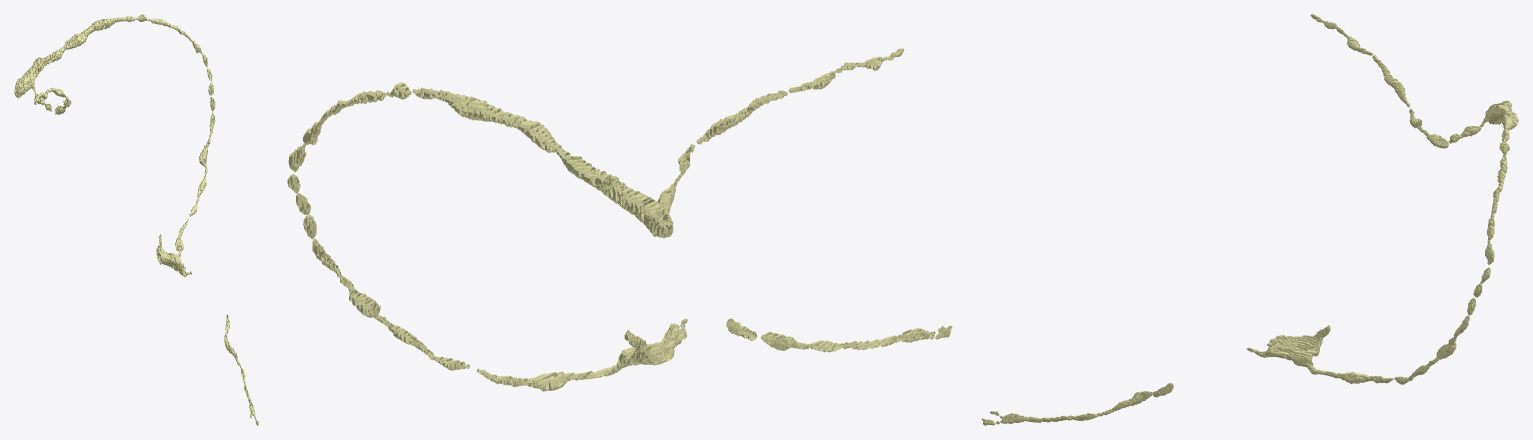
Rendered from SVV_SAADR.gltf.
3 renders of one model, left to right at view 1: azimuth 30°, elevation 25°; view 2: azimuth 150°, elevation 25°; view 3: azimuth 270°, elevation 25°, orthographic. The views are drawn at different scales.
Parts seen in each view (by area): view 1: SAADR; view 2: SAADR; view 3: SAADR.
Boxes of the visible parts, left/top/right/bottom form: SAADR: left=14, top=14, right=258, bottom=425; SAADR: left=287, top=48, right=952, bottom=391; SAADR: left=981, top=14, right=1518, bottom=425.
Bounding box in the file's own units: 151823 × 155019 × 218092.
